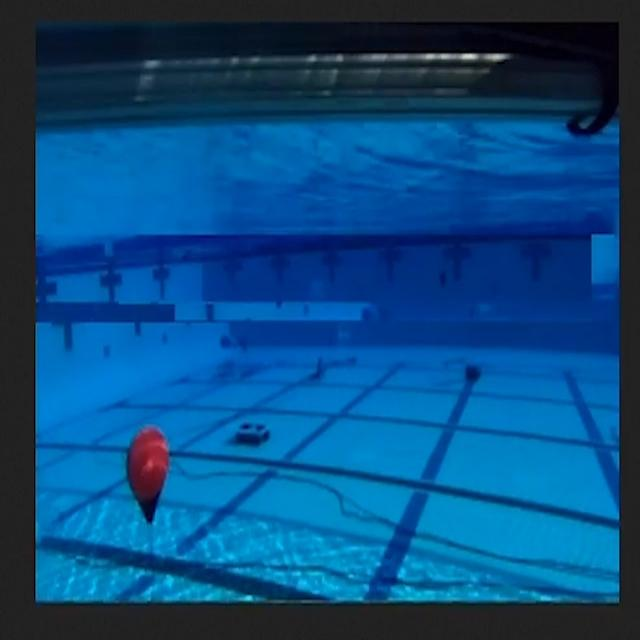Buoy: (114, 416, 186, 548)
